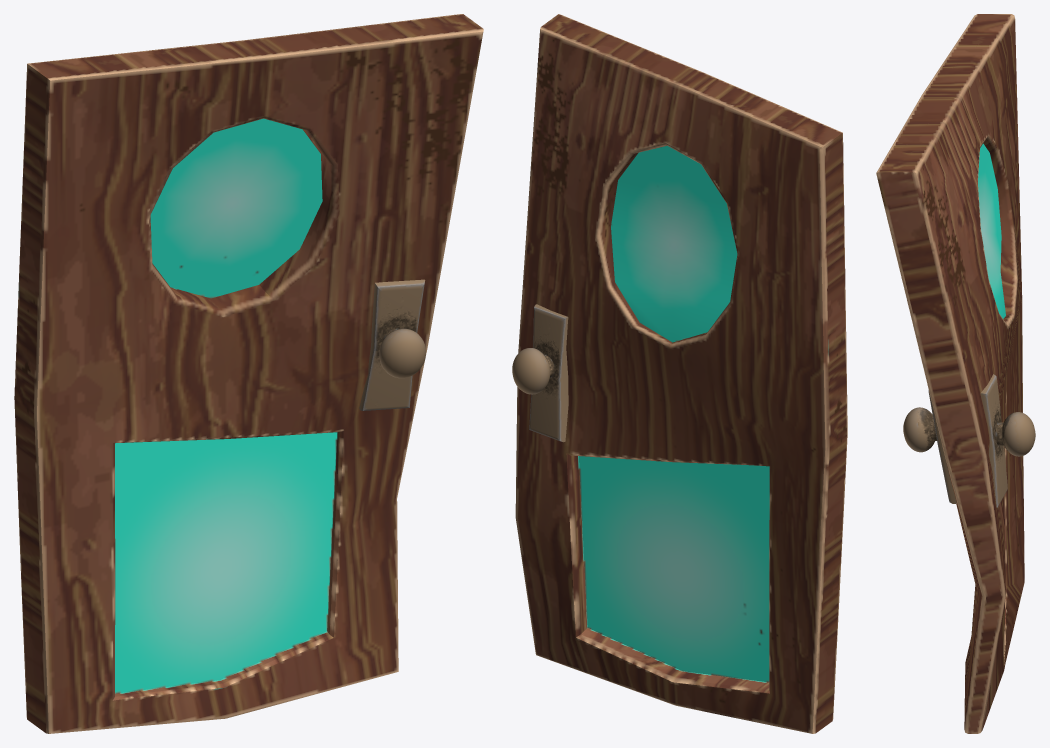
The model's file is Bedroom_door.fbx.
3 renders of one model, left to right at view 1: azimuth 30°, elevation 25°; view 2: azimuth 150°, elevation 25°; view 3: azimuth 270°, elevation 25°, orthographic. The views are drawn at different scales.
Visible parts, largest first — view 1: bedroom_door1; view 2: bedroom_door1; view 3: bedroom_door1.
Boxes of the visible parts, left/top/right/bottom form: bedroom_door1: left=14, top=14, right=483, bottom=733; bedroom_door1: left=512, top=14, right=847, bottom=733; bedroom_door1: left=876, top=14, right=1035, bottom=733.
Bounding box in the file's own units: 202 × 338 × 84.
